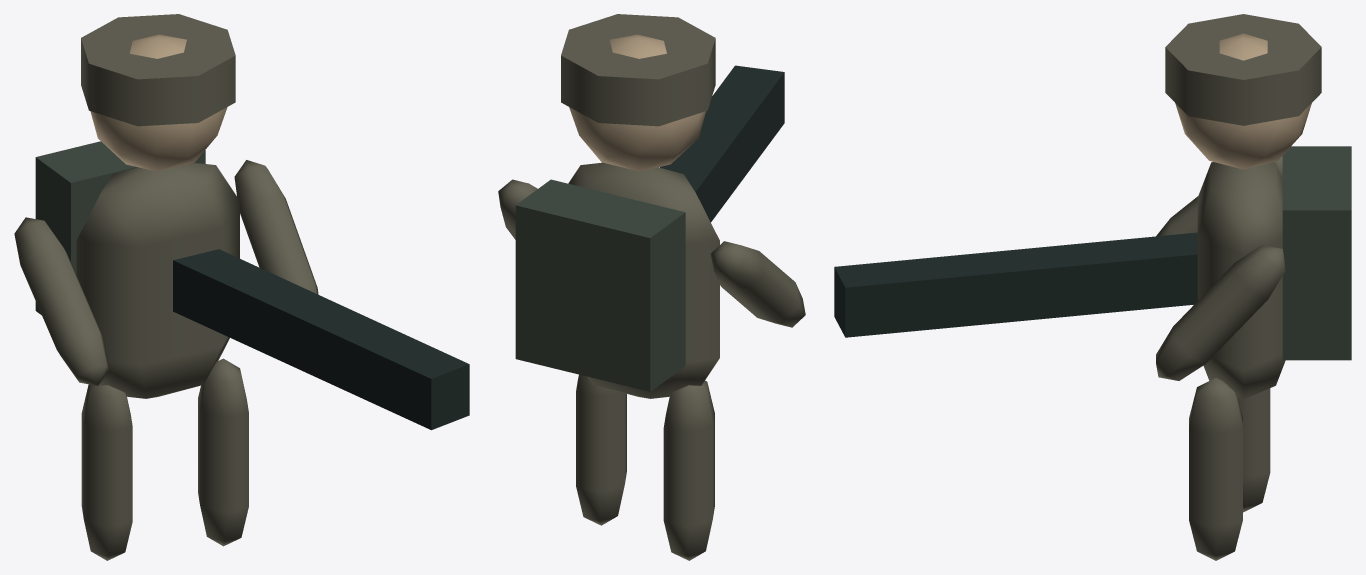
Rendered from rifle.glb.
3 renders of one model, left to right at view 1: azimuth 30°, elevation 25°; view 2: azimuth 150°, elevation 25°; view 3: azimuth 270°, elevation 25°, orthographic. The views are drawn at different scales.
Parts seen in each view (by area): view 1: rifle; view 2: rifle; view 3: rifle.
Boxes of the visible parts, bbox=[...] form: rifle: bbox=[14, 14, 469, 560]; rifle: bbox=[498, 14, 805, 560]; rifle: bbox=[834, 14, 1351, 560].
Size of the model in its own units: 1.29 by 2.39 by 2.25.
